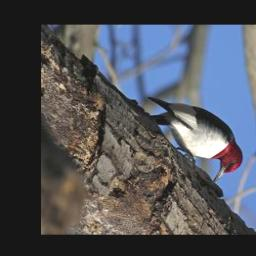Woodpecker: (141, 96, 249, 187)
